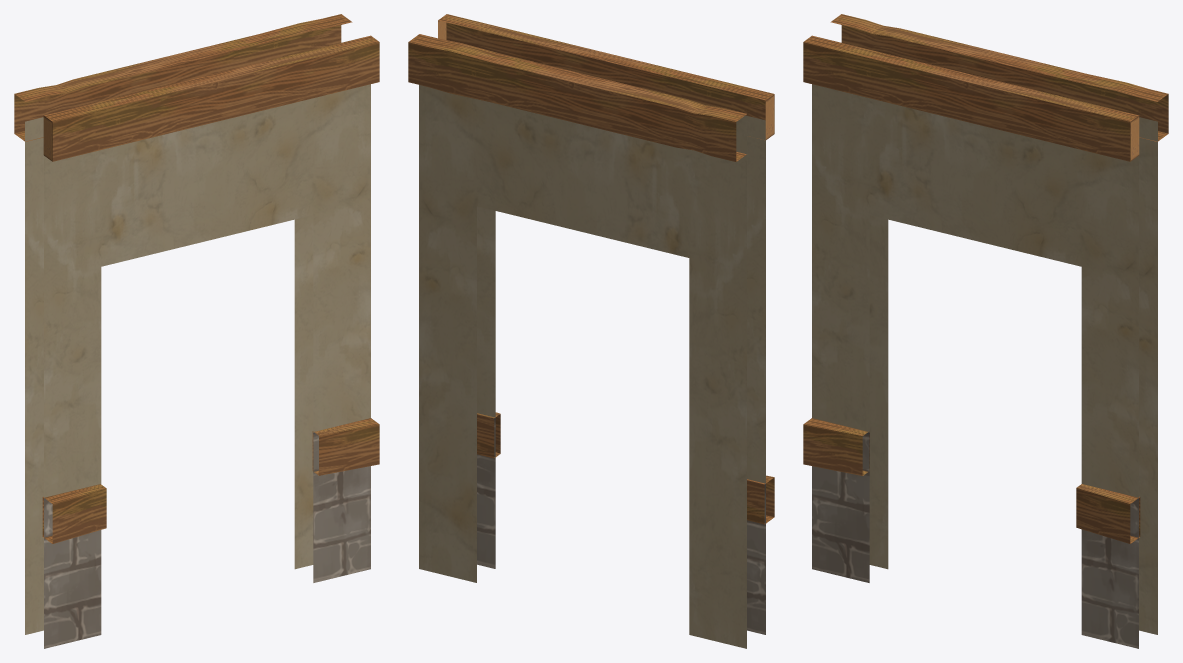
The model's file is Wall_Plaster_Door_Flat.glb.
3 renders of one model, left to right at view 1: azimuth 30°, elevation 25°; view 2: azimuth 150°, elevation 25°; view 3: azimuth 330°, elevation 25°, orthographic.
Parts seen in each view (by area): view 1: Wall_Plaster_Door_Flat; view 2: Wall_Plaster_Door_Flat; view 3: Wall_Plaster_Door_Flat.
Boxes of the visible parts, left/top/right/bottom form: Wall_Plaster_Door_Flat: left=14, top=14, right=379, bottom=648; Wall_Plaster_Door_Flat: left=408, top=14, right=774, bottom=648; Wall_Plaster_Door_Flat: left=803, top=14, right=1168, bottom=648.
Size of the model in its own units: 2 by 3.12 by 0.4065.
Materials: 3 (3 with a texture image).
